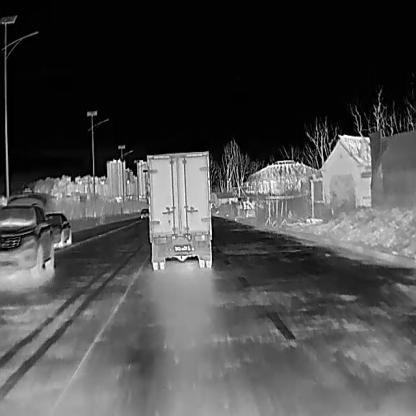car: (0, 190, 53, 278), (43, 210, 71, 248), (139, 206, 150, 218)
truck: (145, 148, 213, 271)
